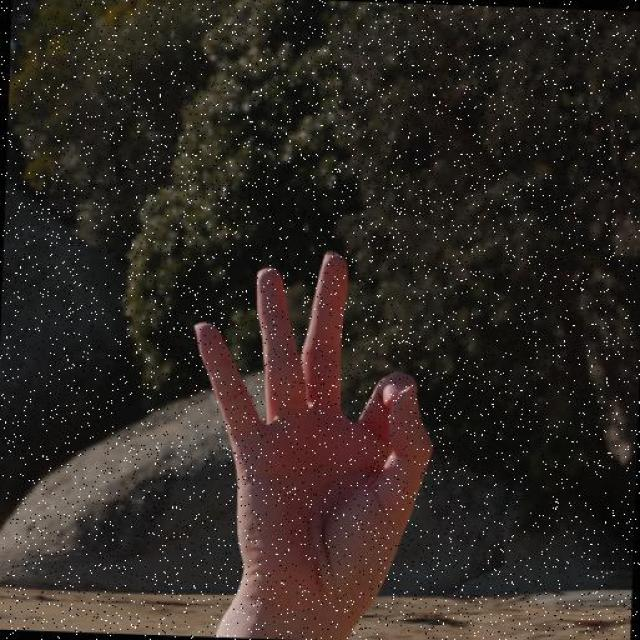F: (177, 241, 442, 601)
